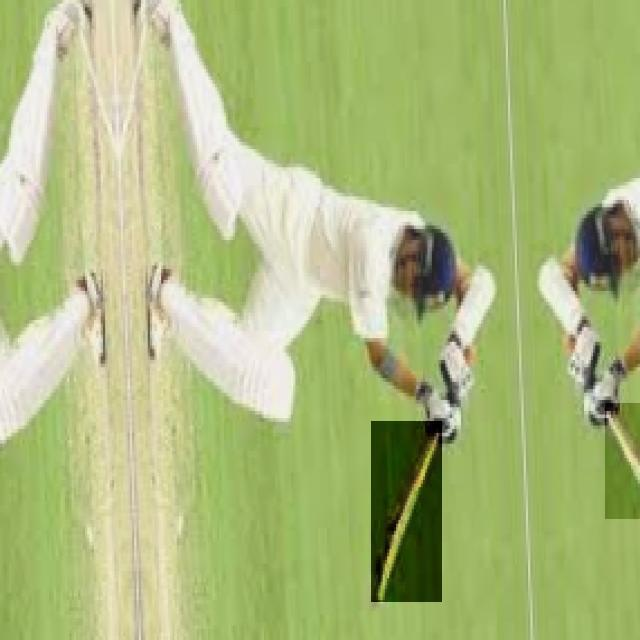bat: (372, 421, 442, 601)
